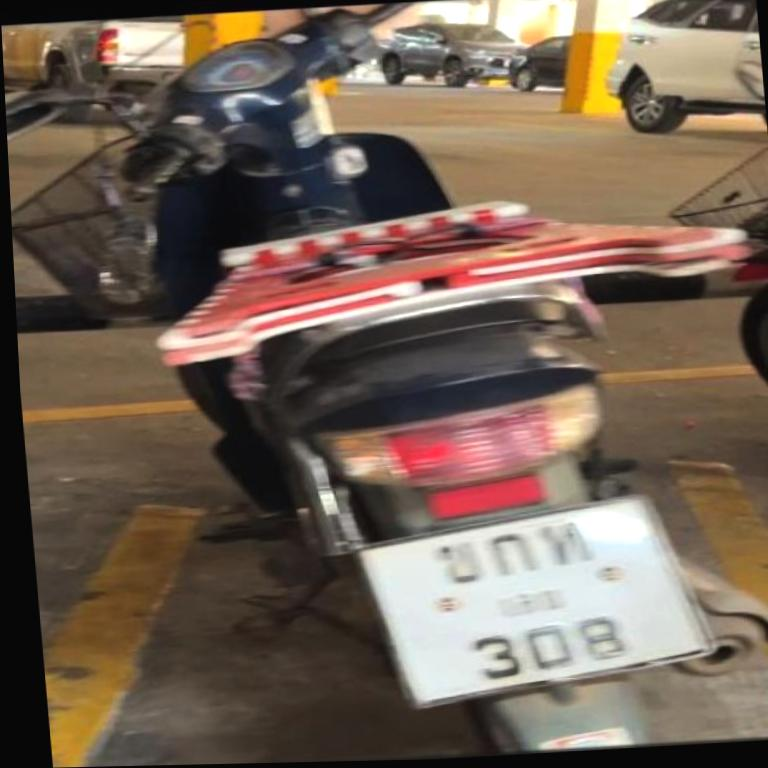license plate: (335, 480, 721, 716)
